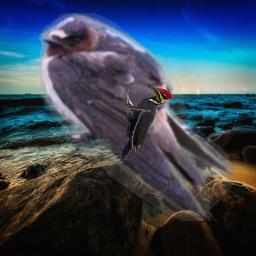Swallow: (37, 13, 235, 221)
Woodpecker: (120, 84, 173, 161)
